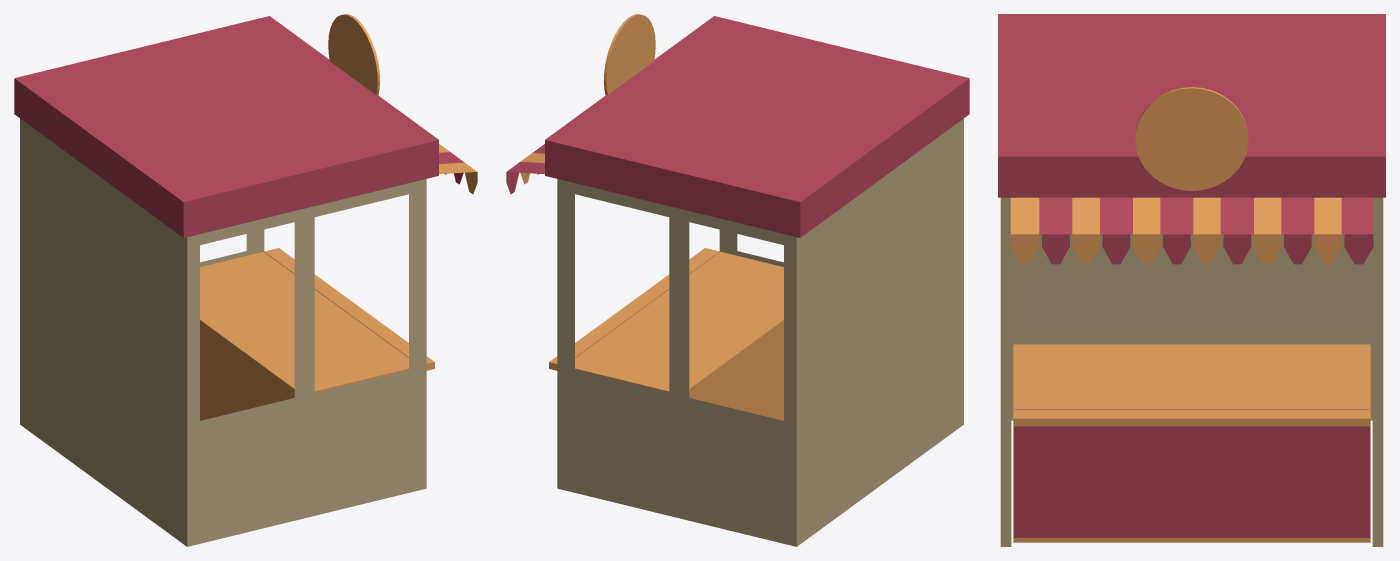
The model's file is booth1.1.fbx.
3 renders of one model, left to right at view 1: azimuth 30°, elevation 25°; view 2: azimuth 150°, elevation 25°; view 3: azimuth 270°, elevation 25°, orthographic. The views are drawn at different scales.
Parts seen in each view (by area): view 1: Cube.004, Cube.005, Cube.003, Cylinder.001, Plane; view 2: Cube.004, Cube.005, Cube.003, Cylinder.001, Plane; view 3: Cube.005, Cube.004, Plane.001, Cube.003, Plane, Cylinder.001.
Boxes of the visible parts, x1,y1,x2,y2 form: Cube.004: (20,118,426,546); Cube.005: (14,16,438,237); Cube.003: (200,248,434,420); Cylinder.001: (328,14,379,95); Plane: (439,144,477,194); Cube.004: (557,118,963,546); Cube.005: (545,16,969,237); Cube.003: (549,248,783,420); Cylinder.001: (604,14,655,95); Plane: (506,144,544,194); Cube.005: (998,14,1385,197); Cube.004: (1000,197,1383,546); Plane.001: (1014,409,1369,537); Cube.003: (1013,344,1370,542); Plane: (1010,197,1373,264); Cylinder.001: (1135,87,1248,190).
Bounding box in the file's own units: 431 × 560 × 423.
